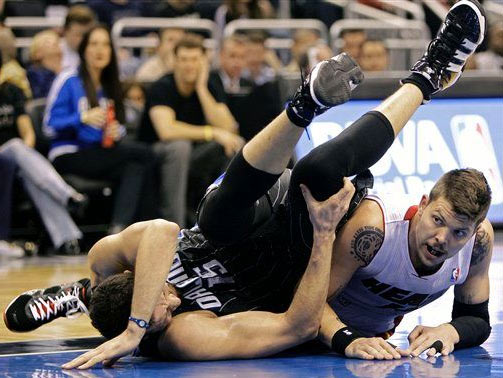10+: (1, 1, 503, 378)
down: (57, 1, 491, 373), (2, 136, 498, 359)
